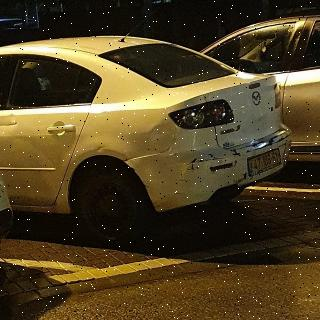LicensePlate: (249, 149, 282, 171)
